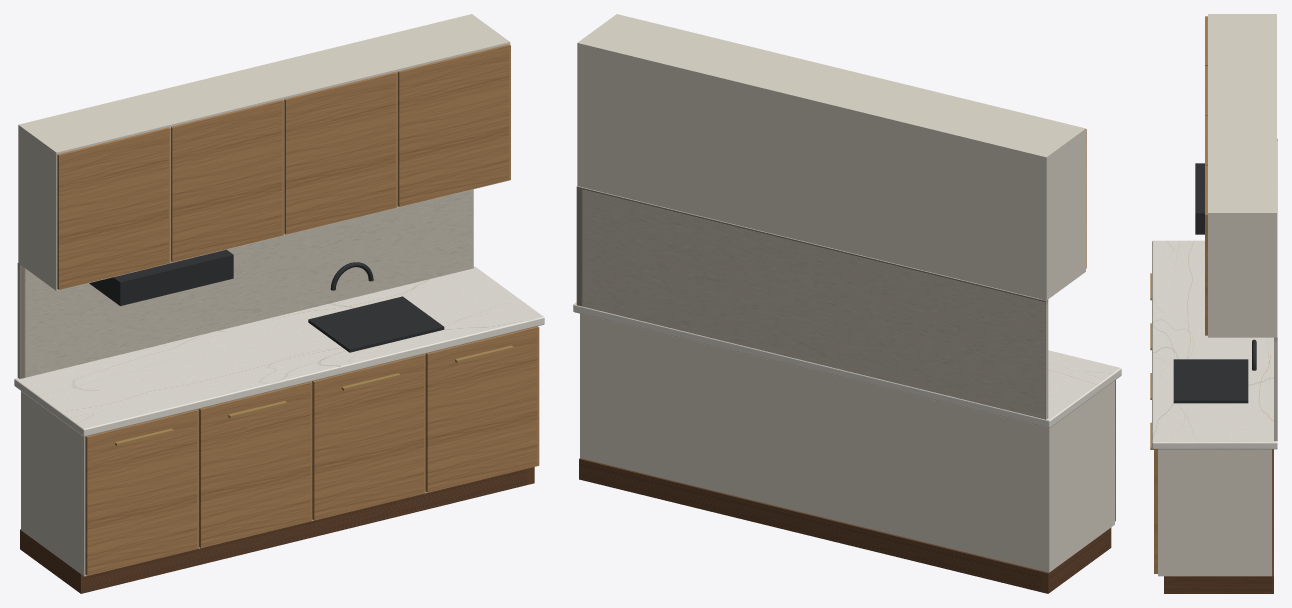
Rendered from noi-that-tu-bep.glb.
3 renders of one model, left to right at view 1: azimuth 30°, elevation 25°; view 2: azimuth 150°, elevation 25°; view 3: azimuth 270°, elevation 25°, orthographic. The views are drawn at different scales.
Size of the model in its own units: 2.44 by 2.14 by 0.65.
7 materials, 4 textured.
